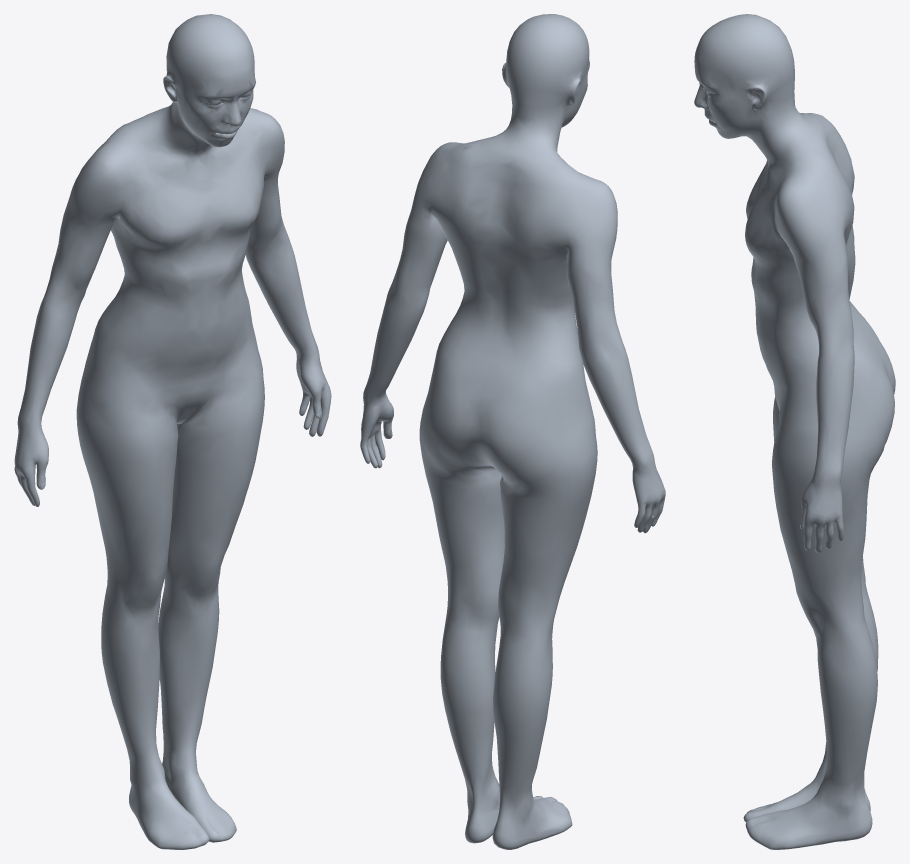
Rendered from apex-figure-female.glb.
3 views of the same model, side by side, from view 1: azimuth 30°, elevation 25°; view 2: azimuth 150°, elevation 25°; view 3: azimuth 270°, elevation 25° (orthographic). The views are drawn at different scales.
Visible parts, largest first — view 1: ApexBodyFemale; view 2: ApexBodyFemale; view 3: ApexBodyFemale.
Boxes of the visible parts, x1,y1,x2,y2 form: ApexBodyFemale: (14,14,331,849); ApexBodyFemale: (360,14,665,849); ApexBodyFemale: (694,14,895,849).
Size of the model in its own units: 0.6717 by 1.71 by 0.3838.
